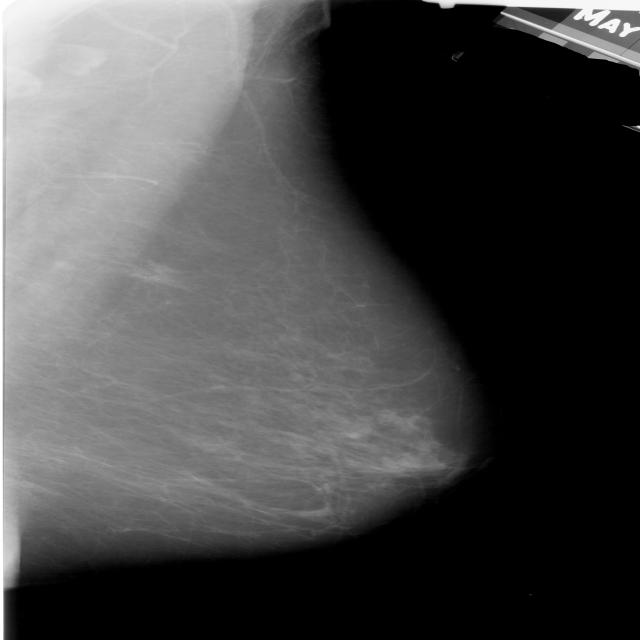normal: (0, 4, 487, 570)
